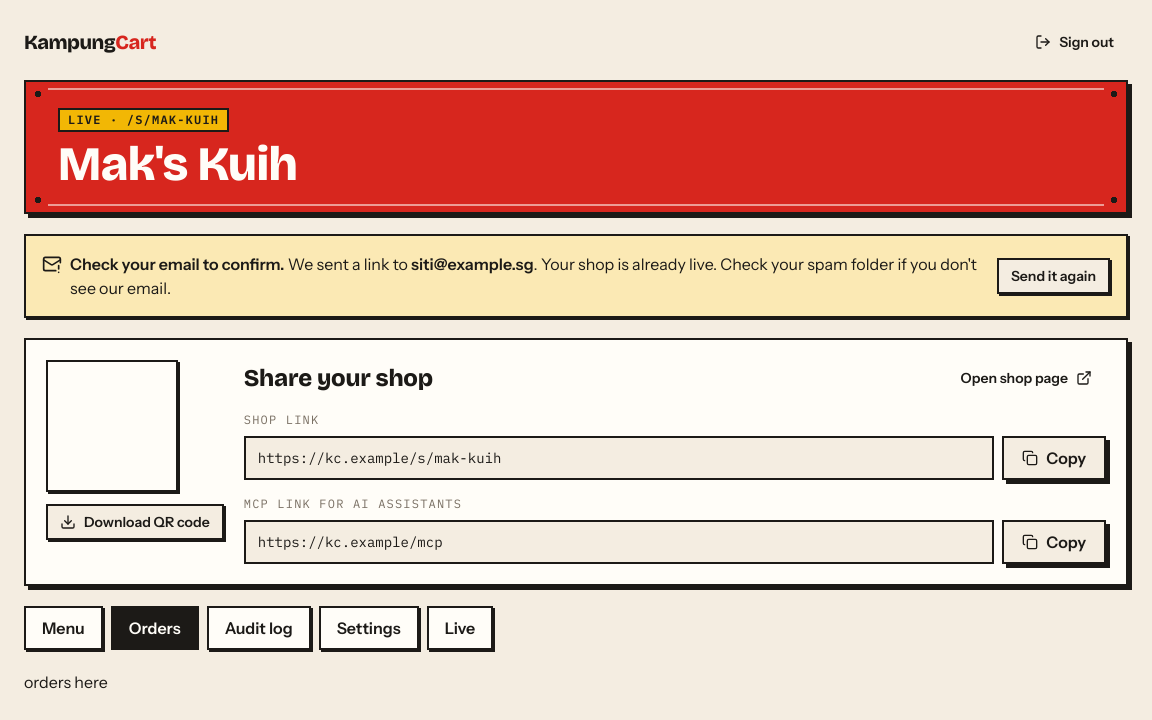
Test: owner account in the dashboard › asks the owner to confirm their email until they do, and can send it again
expect the text "Check your email to confirm." shows "siti@example.sg": met, box [411, 254, 534, 274]
Click the button "Send it again".
click(1054, 276)  # box [997, 258, 1110, 294]
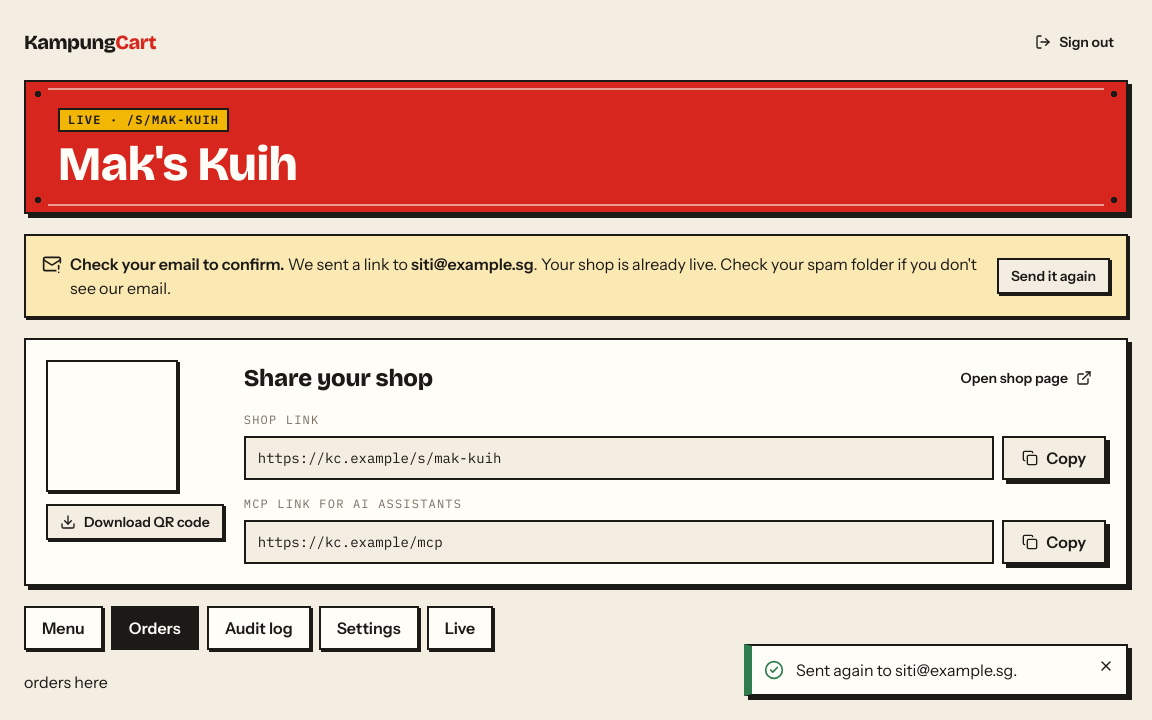
expect the text "Sent again to siti@example.sg." is shown: met, box [795, 659, 1017, 680]
